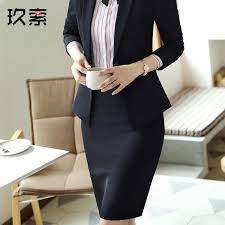F_tailored skirt: (69, 83, 168, 225)
